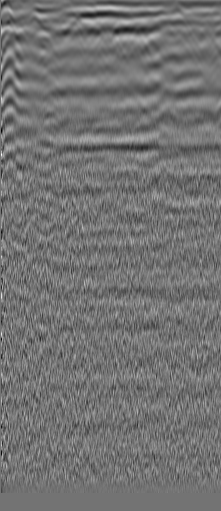오수: (24, 13, 44, 33)
우수: (169, 26, 189, 46)
